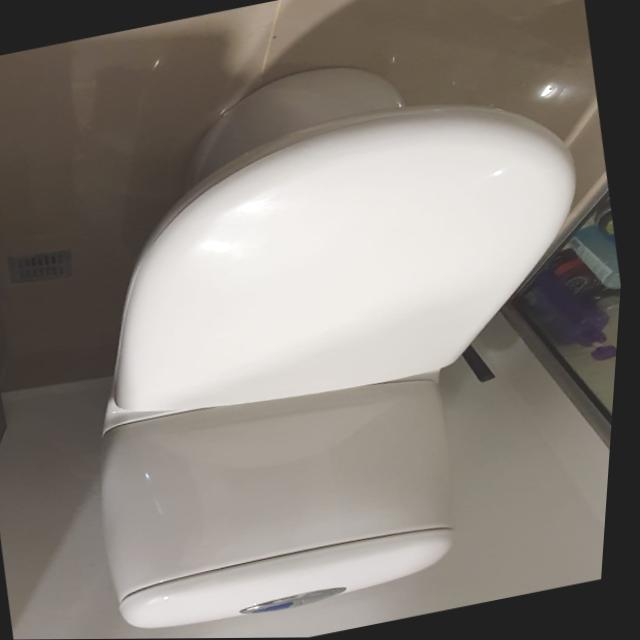toilet: (24, 20, 639, 640)
